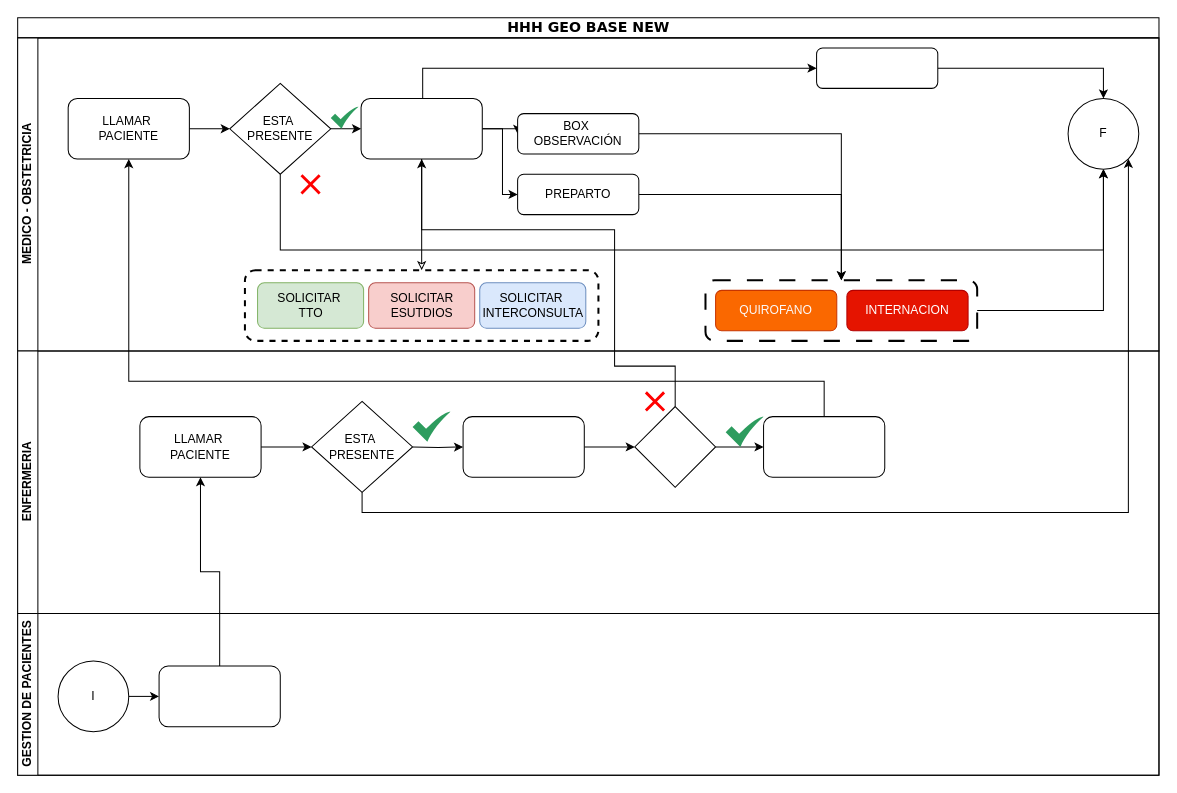
Some shapes in this 1177 by 793 pixel diagram are drawn without their labels. The shapes that lost their labels are listed below. From the top down, each one's centre as x and y in pixels, then its label:
At (877,67): "ALTA".
At (421,128): "ATENDER EN CNS GUARDIA".
At (523,446): "REALIZAR TRIAJE".
At (675,446): "PASILLO EXT".
At (824,446): "ESPERAR ATENCION MEDICA".
At (219,696): "RECEPCIONAR PACIENTES".
